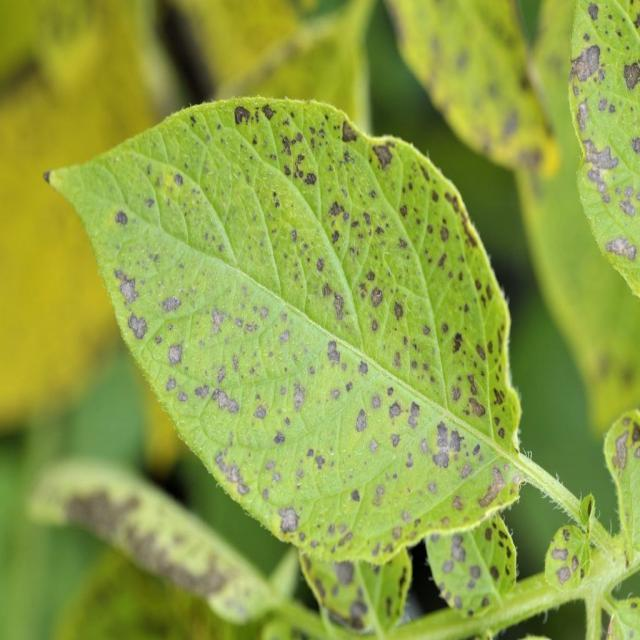Bacterial Spot: (110, 148, 512, 526), (571, 6, 640, 284), (416, 524, 536, 606), (542, 528, 595, 600)
